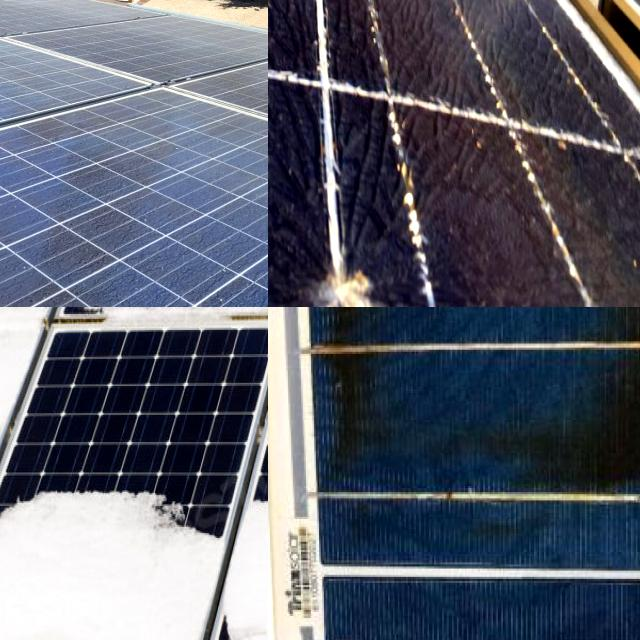dust: (0, 156, 268, 307), (0, 73, 142, 113)
hotspot: (273, 250, 420, 307)
panel: (0, 489, 207, 640), (0, 307, 68, 474), (76, 307, 268, 362), (169, 597, 266, 640)
shadow: (315, 307, 640, 497)
